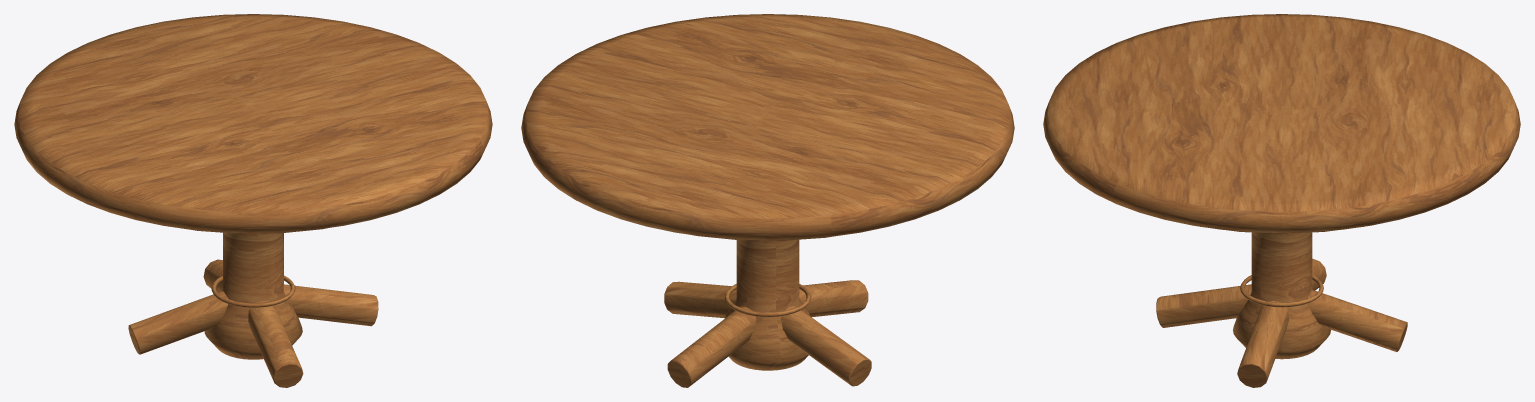
File: WC_CAFE_Table_Round_A.glb
3 views of the same model, side by side, from view 1: azimuth 30°, elevation 25°; view 2: azimuth 150°, elevation 25°; view 3: azimuth 270°, elevation 25° (orthographic). The views are drawn at different scales.
Parts seen in each view (by area): view 1: WC_CAFE_Table_Round_A_PolishedRenderMesh; view 2: WC_CAFE_Table_Round_A_PolishedRenderMesh; view 3: WC_CAFE_Table_Round_A_PolishedRenderMesh.
Boxes of the visible parts, left/top/right/bottom form: WC_CAFE_Table_Round_A_PolishedRenderMesh: left=14, top=14, right=492, bottom=387; WC_CAFE_Table_Round_A_PolishedRenderMesh: left=521, top=14, right=1014, bottom=387; WC_CAFE_Table_Round_A_PolishedRenderMesh: left=1043, top=14, right=1520, bottom=387.
Size of the model in its own units: 1.65 by 0.89 by 1.65.
3 materials, 3 textured.
